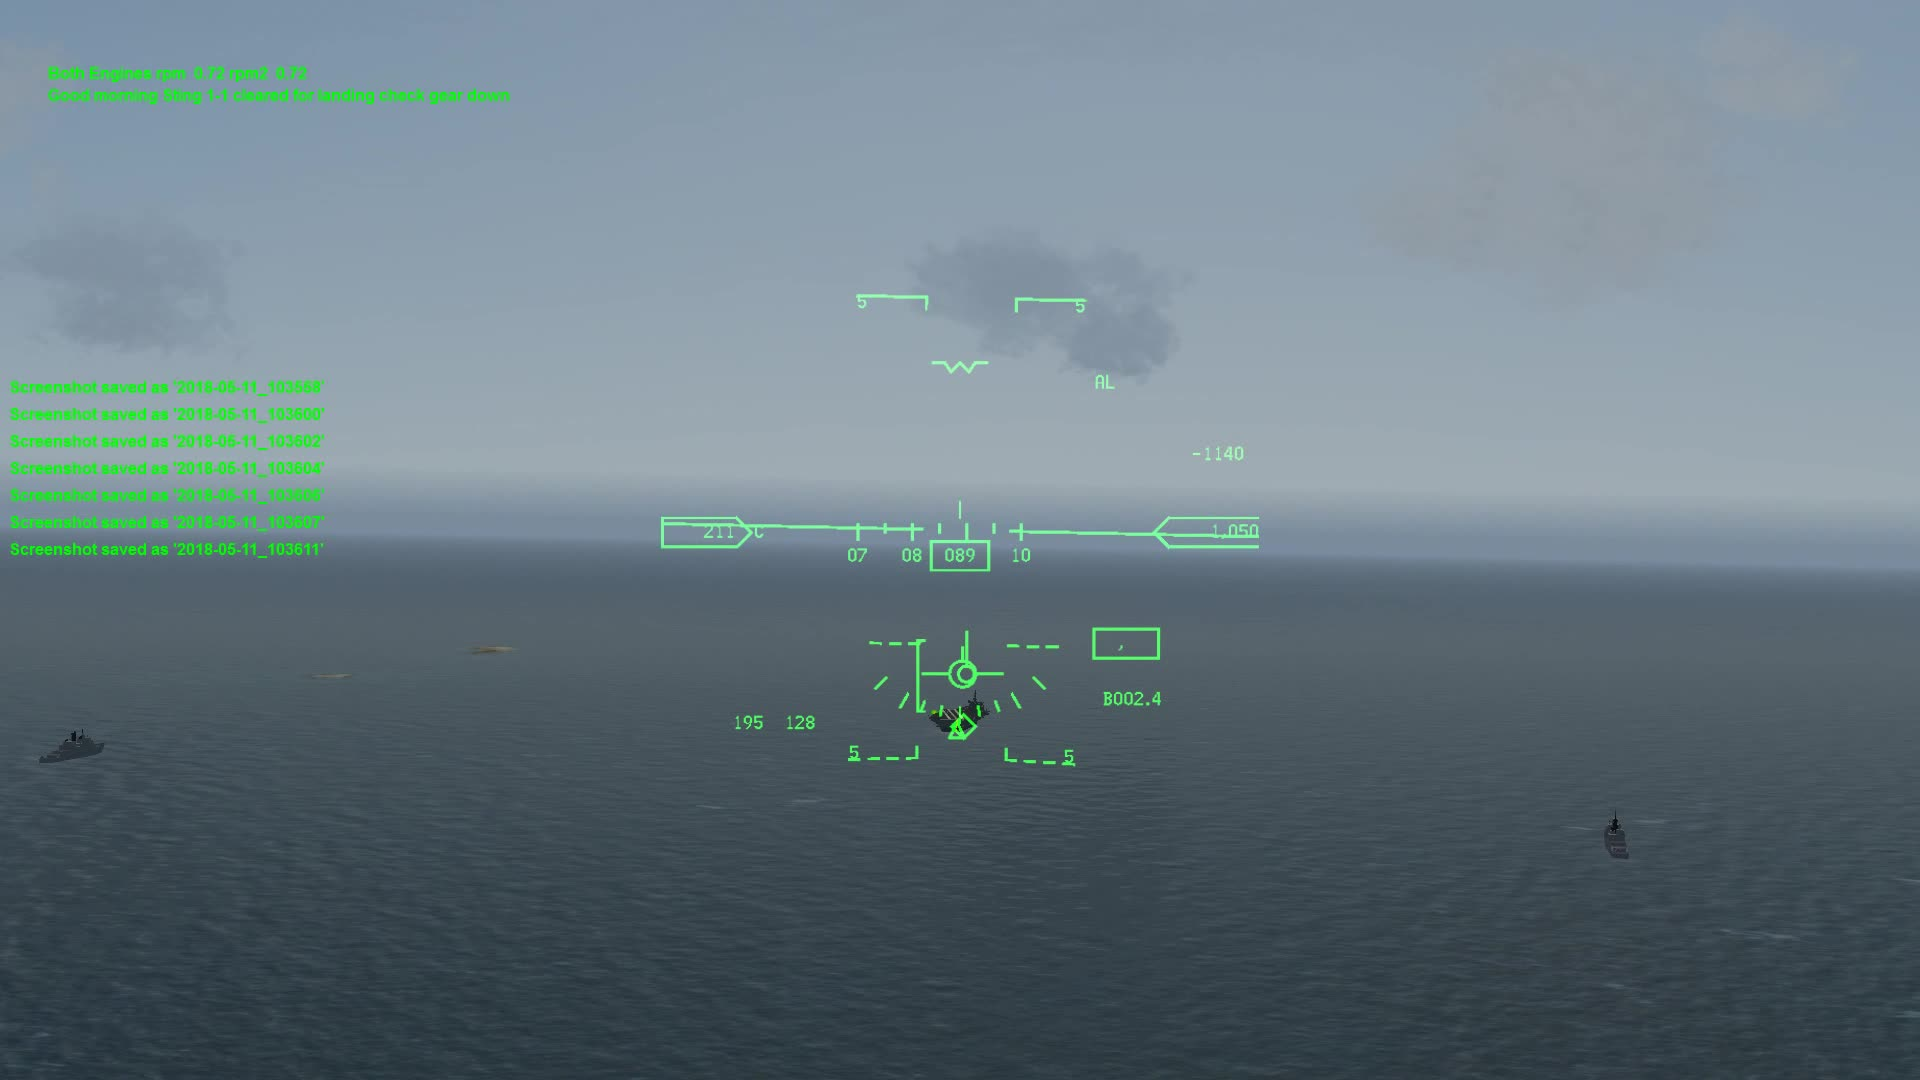speed vector: (916, 636, 1005, 694)
